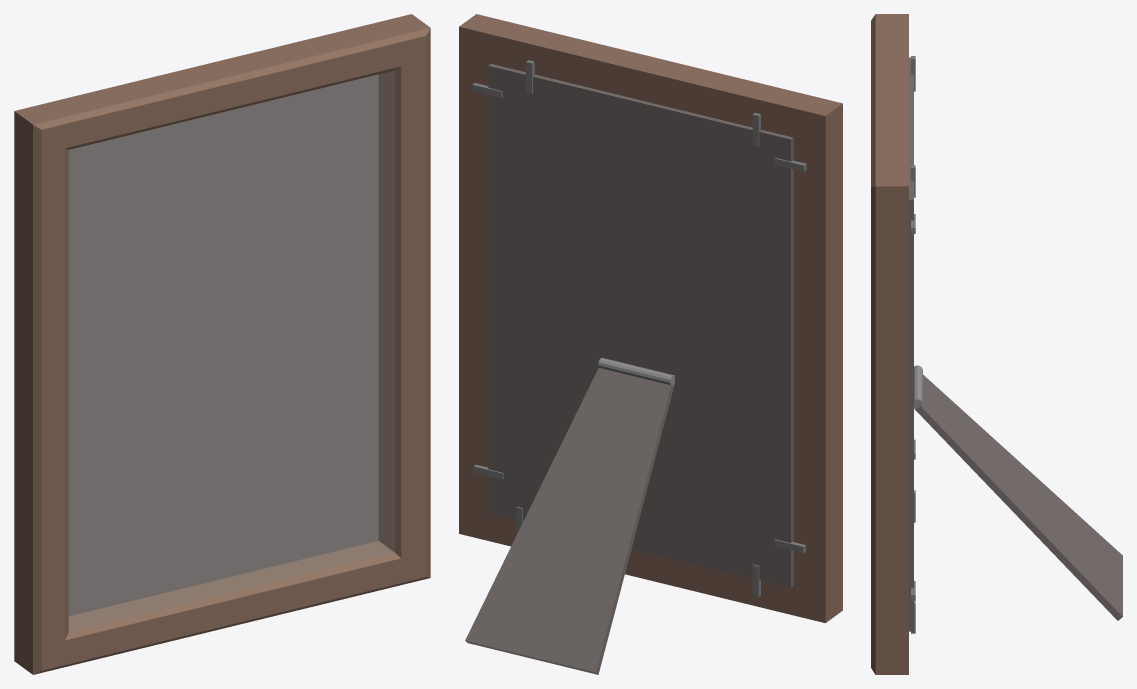
The model's file is Desktop_Photo_Frame.fbx.
3 renders of one model, left to right at view 1: azimuth 30°, elevation 25°; view 2: azimuth 150°, elevation 25°; view 3: azimuth 270°, elevation 25°, orthographic. The views are drawn at different scales.
Parts seen in each view (by area): view 1: Desktop_Photo_Frame, Desktop_Photo_Frame_Glass; view 2: Desktop_Photo_Frame, Desktop_Photo_Frame_Support, Desktop_Photo_Frame_Hinge; view 3: Desktop_Photo_Frame, Desktop_Photo_Frame_Support.
Boxes of the visible parts, bbox=[...] form: Desktop_Photo_Frame: bbox=[14, 14, 430, 674]; Desktop_Photo_Frame_Glass: bbox=[69, 71, 394, 631]; Desktop_Photo_Frame: bbox=[459, 14, 842, 623]; Desktop_Photo_Frame_Support: bbox=[465, 368, 674, 674]; Desktop_Photo_Frame_Hinge: bbox=[598, 358, 674, 385]; Desktop_Photo_Frame: bbox=[871, 14, 913, 674]; Desktop_Photo_Frame_Support: bbox=[914, 375, 1122, 620].
Size of the model in its own units: 16.1 by 21.34 by 9.94.
